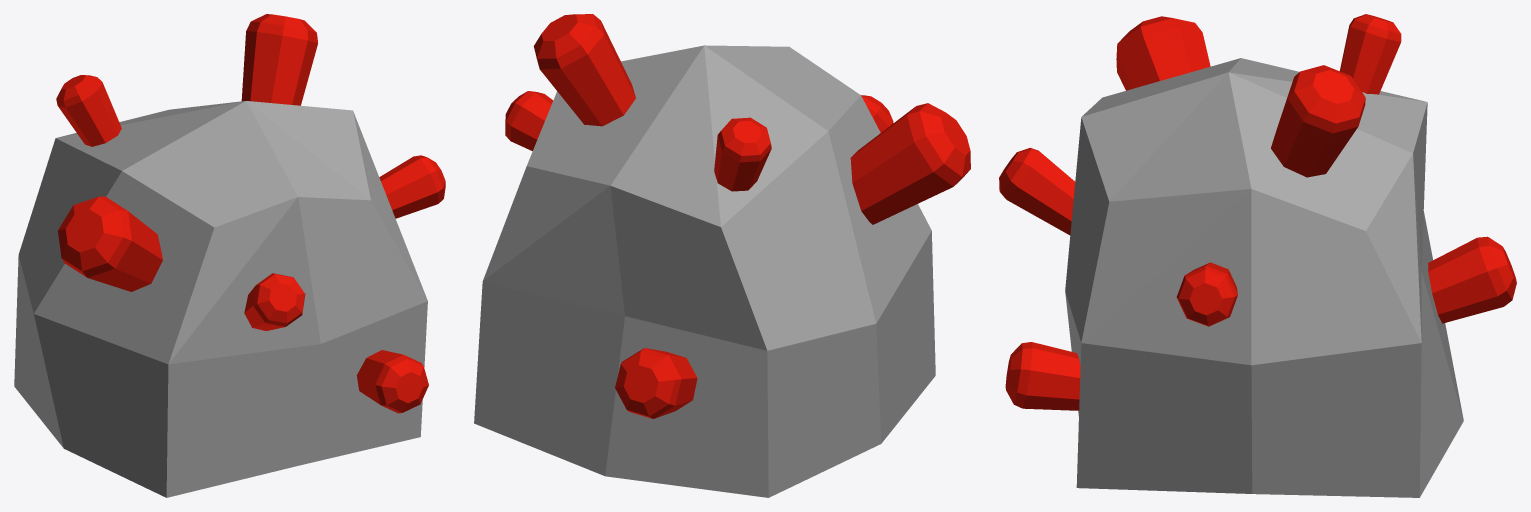
Rendered from ore4.fbx.
3 views of the same model, side by side, from view 1: azimuth 30°, elevation 25°; view 2: azimuth 150°, elevation 25°; view 3: azimuth 270°, elevation 25° (orthographic). The views are drawn at different scales.
Visible parts, largest first — view 1: Cube.005, Cylinder.002; view 2: Cube.005, Cylinder.002; view 3: Cube.005, Cylinder.002.
Part boxes in pixels (box(x1,y1,x2,y2)): Cube.005: box(14, 101, 427, 497); Cylinder.002: box(56, 14, 445, 413); Cube.005: box(474, 45, 935, 497); Cylinder.002: box(505, 14, 970, 418); Cube.005: box(1065, 58, 1463, 497); Cylinder.002: box(999, 14, 1516, 410).
Size of the model in its own units: 413 by 349 by 412.
